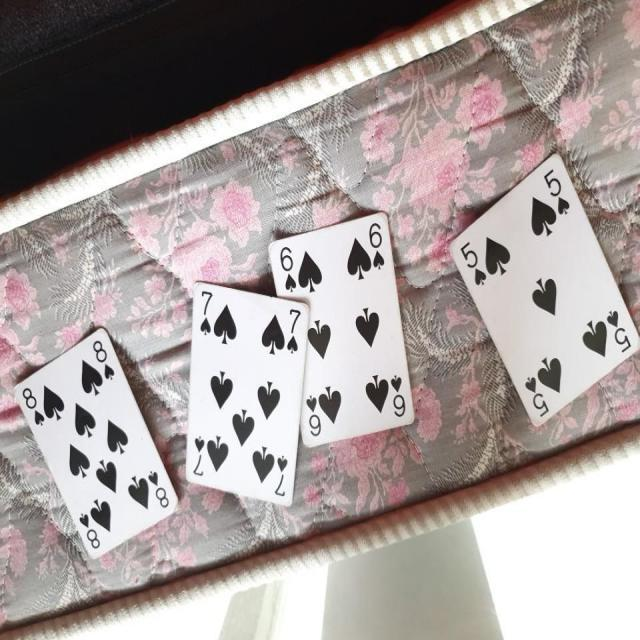5 of spades: (448, 137, 640, 439)
6 of spades: (266, 205, 428, 448)
7 of spades: (181, 273, 309, 515)
8 of spades: (12, 328, 187, 558)
